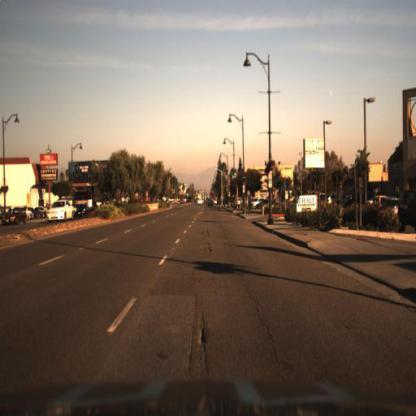car: (49, 200, 76, 224), (75, 203, 96, 220)
